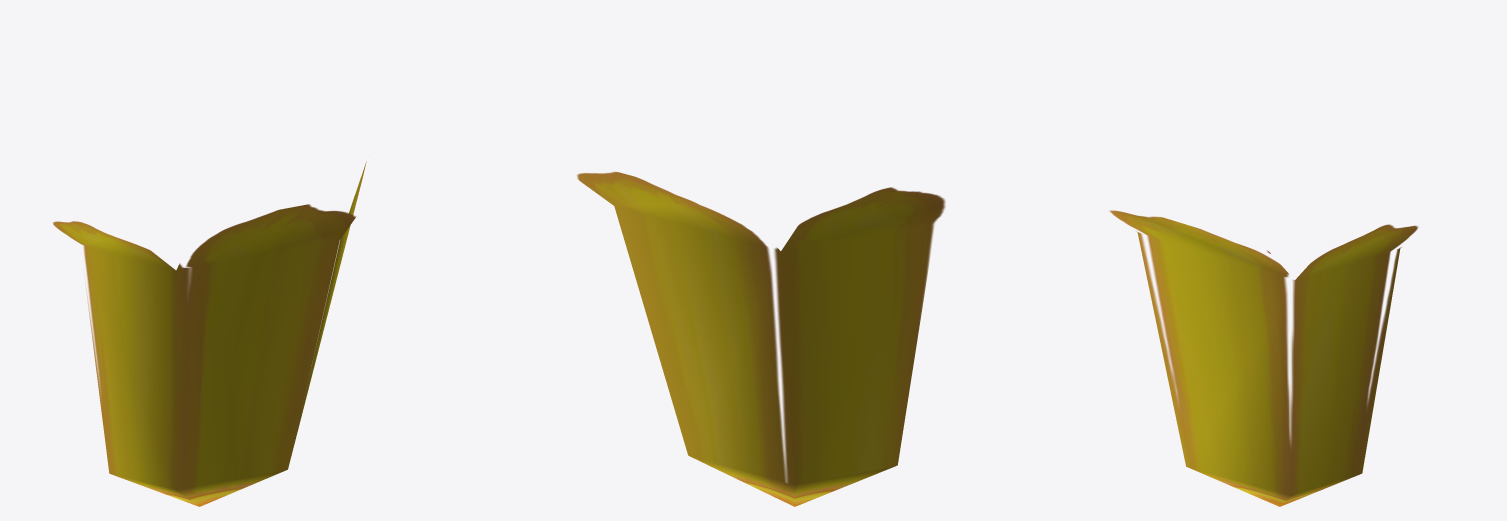
File: flower-petal-4.glb
3 renders of one model, left to right at view 1: azimuth 30°, elevation 25°; view 2: azimuth 150°, elevation 25°; view 3: azimuth 270°, elevation 25°, orthographic. The views are drawn at different scales.
Parts seen in each view (by area): view 1: Petal_4; view 2: Petal_4; view 3: Petal_4.
Part boxes in pixels (x1,y1,x2,y2): Petal_4: (53, 161, 366, 506); Petal_4: (577, 171, 945, 506); Petal_4: (1109, 210, 1418, 506).
Size of the model in its own units: 0.3291 by 0.2521 by 0.2444.
Materials: 1 (1 with a texture image).
